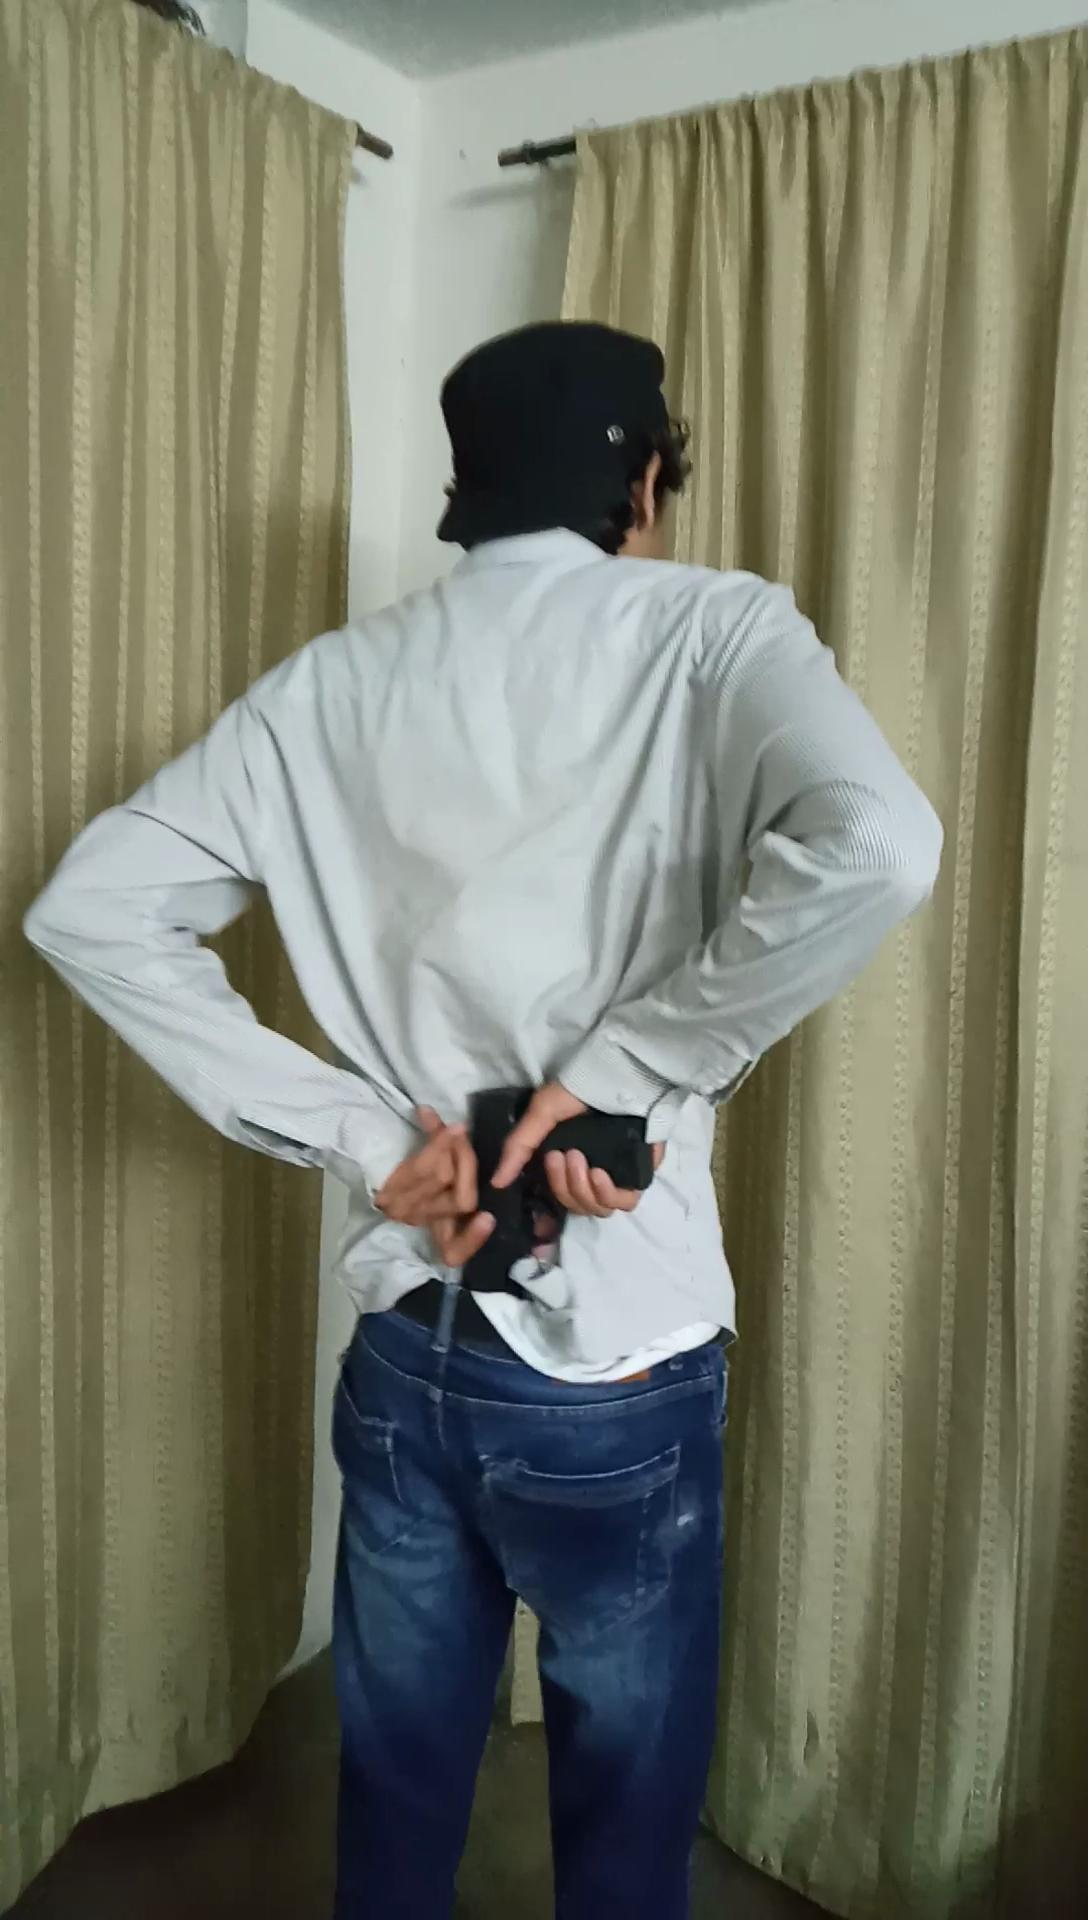weapon: (460, 1062, 671, 1305)
